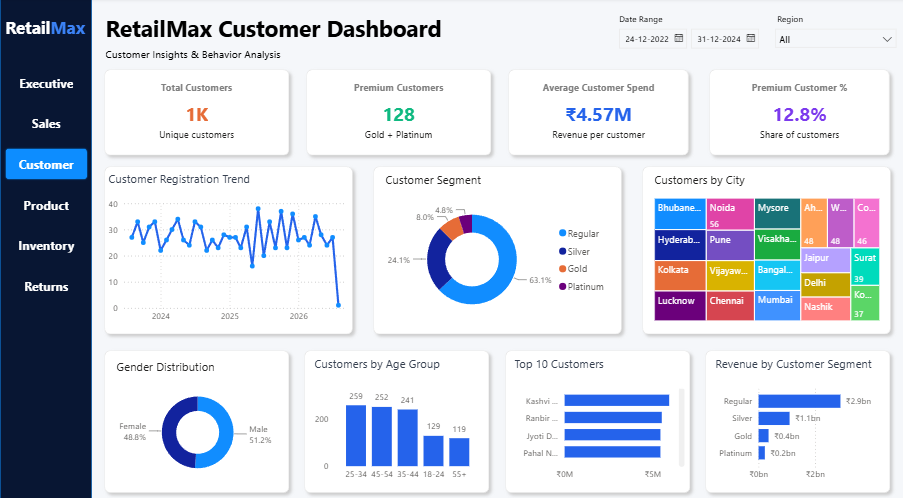

What the dashboard file says about the page in this screenshot:
{"tool":"powerbi","page":{"name":"Customer Dashboard","canvas":[1280,720],"ordinal":2},"visuals":[{"type":"shape","box":[0,0,130,720],"z":0,"group":"g8"},{"type":"shape","box":[139,92,280,140],"z":0,"group":"g1"},{"type":"shape","box":[425,92,280,140],"z":0,"group":"g2"},{"type":"shape","box":[711,92,273.4,140],"z":0,"group":"g3"},{"type":"shape","box":[997,92,273.4,140],"z":0,"group":"g4"},{"type":"textbox","box":[160,176,144,64],"z":0},{"type":"shape","box":[139,230,370,256],"z":0,"group":"g5"},{"type":"shape","box":[520.5,230,370,256],"z":0,"group":"g6"},{"type":"shape","box":[902,230,370,256],"z":0,"group":"g7"},{"type":"cardVisual","title":"sales","fields":{"Data":["Measure.Total Customers"]},"box":[159,127,240,70],"z":1000,"group":"g1"},{"type":"cardVisual","title":"sales","fields":{"Data":["Measure.New Customers"]},"box":[445,127,240,70],"z":1000,"group":"g2"},{"type":"cardVisual","title":"sales","fields":{"Data":["Measure.Average Customer Spend"]},"box":[730.5,127,234.4,70],"z":1000,"group":"g3"},{"type":"cardVisual","title":"sales","fields":{"Data":["Measure.Premium Customers %"]},"box":[1016.5,127,234.4,70],"z":1000,"group":"g4"},{"type":"lineChart","title":"Customer Registration Trend","fields":{"Y":["Measure.Total Customers"],"Category":["dim_customer.registration_date.Variation.Date Hierarchy.Year","dim_customer.registration_date.Variation.Date Hierarchy.Month"]},"box":[149.6,246,348.9,224],"z":1000,"group":"g5"},{"type":"shape","box":[423,491,280,220],"z":1000},{"type":"textbox","box":[159,112.8,240,35],"z":2000,"group":"g1"},{"type":"textbox","box":[445,112.8,240,35],"z":2000,"group":"g2"},{"type":"textbox","box":[730.5,112.8,234.4,35],"z":2000,"group":"g3"},{"type":"textbox","box":[1016.5,112.8,234.4,35],"z":2000,"group":"g4"},{"type":"shape","box":[707,491,280,220],"z":2000},{"type":"textbox","box":[159,179.5,240,35],"z":3000,"group":"g1"},{"type":"textbox","box":[445,179.5,240,35],"z":3000,"group":"g2"},{"type":"textbox","box":[730.5,179.5,234.4,35],"z":3000,"group":"g3"},{"type":"textbox","box":[1016.5,179.5,234.4,35],"z":3000,"group":"g4"},{"type":"shape","box":[991,491,280,220],"z":3000},{"type":"textbox","box":[144,16,544,64],"z":4000},{"type":"clusteredColumnChart","title":"Customers by Age Group","fields":{"Category":["dim_customer.Age Group"],"Y":["Measure.Total Customers"]},"box":[440.5,507.9,245,186.2],"z":5000},{"type":"barChart","title":"Top 10 Customers","fields":{"Y":["Measure.Total Revenue"],"Category":["dim_customer.Customer Name"]},"box":[724.9,507.9,250.9,186.2],"z":6000},{"type":"barChart","title":"Revenue by Customer Segment","fields":{"Y":["Measure.Total Revenue"],"Category":["dim_customer.customer_segment"]},"box":[1008.5,507.9,245,186.2],"z":7000},{"type":"textbox","box":[144,64,288,80],"z":8000},{"type":"slicer","fields":{"Values":["dim_date.full_date"]},"box":[864,15,224,96],"z":9000},{"type":"slicer","fields":{"Values":["dim_region.region_name"]},"box":[1088,15,192,80],"z":10000},{"type":"group","id":"g1","title":"Group 2","box":[139,92,280,140],"z":11000},{"type":"group","id":"g2","title":"Group 2","box":[425,92,280,140],"z":12000},{"type":"group","id":"g3","title":"Group 2","box":[711,92,280,144],"z":13000},{"type":"group","id":"g4","title":"Group 2","box":[997,92,280,144],"z":14000},{"type":"group","id":"g5","title":"Group 1","box":[139,230,370,256],"z":15000},{"type":"group","id":"g6","title":"Group 3","box":[520.5,230,370,256],"z":16000},{"type":"group","id":"g7","title":"Group 4","box":[902,230,370,256],"z":17000},{"type":"group","id":"g8","title":"Group 2","box":[0,0,130,720],"z":18000},{"type":"actionButton","box":[5,96,120,48],"z":18000,"group":"g8"},{"type":"textbox","box":[0,20,128,48],"z":19000,"group":"g8"},{"type":"donutChart","title":"Customer Segment","fields":{"Y":["Measure.Total Customers"],"Category":["dim_customer.customer_segment"]},"box":[542,247,329,216],"z":19000},{"type":"actionButton","box":[5,153.6,120,48],"z":20000,"group":"g8"},{"type":"treemap","title":"Customers by City","fields":{"Group":["dim_customer.city"],"Values":["Measure.Total Customers"]},"box":[923,247,329,216],"z":20000},{"type":"actionButton","box":[5,211.2,120,48],"z":21000,"group":"g8"},{"type":"shape","box":[139,491,280,220],"z":21000},{"type":"actionButton","box":[5,268.8,120,48],"z":22000,"group":"g8"},{"type":"donutChart","title":"Gender Distribution","fields":{"Y":["Measure.Total Customers"],"Category":["dim_customer.gender"]},"box":[160,512,240,176],"z":22000},{"type":"actionButton","box":[5,326.4,120,48],"z":23000,"group":"g8"},{"type":"actionButton","box":[5,384,120,48],"z":24000,"group":"g8"}]}

Visuals, with their boxes on the page's 1280x720 design canvas (x1, y1, x2, y2). These are canvas units, not pixel positions in the 903x498 screenshot, which may show the page scaled, cropped or inside an application window:
shape: Rect(0, 0, 130, 720)
shape: Rect(139, 92, 419, 232)
shape: Rect(425, 92, 705, 232)
shape: Rect(711, 92, 984, 232)
shape: Rect(997, 92, 1270, 232)
textbox: Rect(160, 176, 304, 240)
shape: Rect(139, 230, 509, 486)
shape: Rect(520, 230, 890, 486)
shape: Rect(902, 230, 1272, 486)
"sales" cardVisual: Rect(159, 127, 399, 197)
"sales" cardVisual: Rect(445, 127, 685, 197)
"sales" cardVisual: Rect(730, 127, 965, 197)
"sales" cardVisual: Rect(1016, 127, 1251, 197)
"Customer Registration Trend" lineChart: Rect(150, 246, 498, 470)
shape: Rect(423, 491, 703, 711)
textbox: Rect(159, 113, 399, 148)
textbox: Rect(445, 113, 685, 148)
textbox: Rect(730, 113, 965, 148)
textbox: Rect(1016, 113, 1251, 148)
shape: Rect(707, 491, 987, 711)
textbox: Rect(159, 180, 399, 214)
textbox: Rect(445, 180, 685, 214)
textbox: Rect(730, 180, 965, 214)
textbox: Rect(1016, 180, 1251, 214)
shape: Rect(991, 491, 1271, 711)
textbox: Rect(144, 16, 688, 80)
"Customers by Age Group" clusteredColumnChart: Rect(440, 508, 686, 694)
"Top 10 Customers" barChart: Rect(725, 508, 976, 694)
"Revenue by Customer Segment" barChart: Rect(1008, 508, 1254, 694)
textbox: Rect(144, 64, 432, 144)
slicer - dim_date.full_date: Rect(864, 15, 1088, 111)
slicer - dim_region.region_name: Rect(1088, 15, 1280, 95)
"Group 2" group: Rect(139, 92, 419, 232)
"Group 2" group: Rect(425, 92, 705, 232)
"Group 2" group: Rect(711, 92, 991, 236)
"Group 2" group: Rect(997, 92, 1277, 236)
"Group 1" group: Rect(139, 230, 509, 486)
"Group 3" group: Rect(520, 230, 890, 486)
"Group 4" group: Rect(902, 230, 1272, 486)
"Group 2" group: Rect(0, 0, 130, 720)
actionButton: Rect(5, 96, 125, 144)
textbox: Rect(0, 20, 128, 68)
"Customer Segment" donutChart: Rect(542, 247, 871, 463)
actionButton: Rect(5, 154, 125, 202)
"Customers by City" treemap: Rect(923, 247, 1252, 463)
actionButton: Rect(5, 211, 125, 259)
shape: Rect(139, 491, 419, 711)
actionButton: Rect(5, 269, 125, 317)
"Gender Distribution" donutChart: Rect(160, 512, 400, 688)
actionButton: Rect(5, 326, 125, 374)
actionButton: Rect(5, 384, 125, 432)
